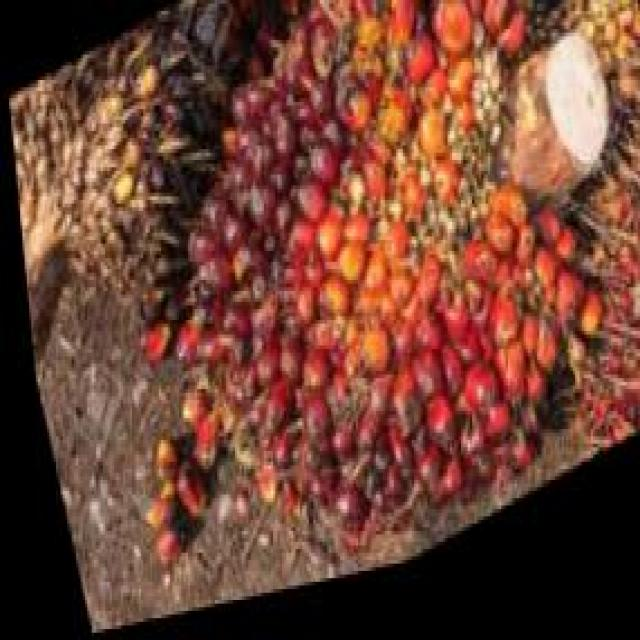Ripefruit: (112, 0, 624, 618)
